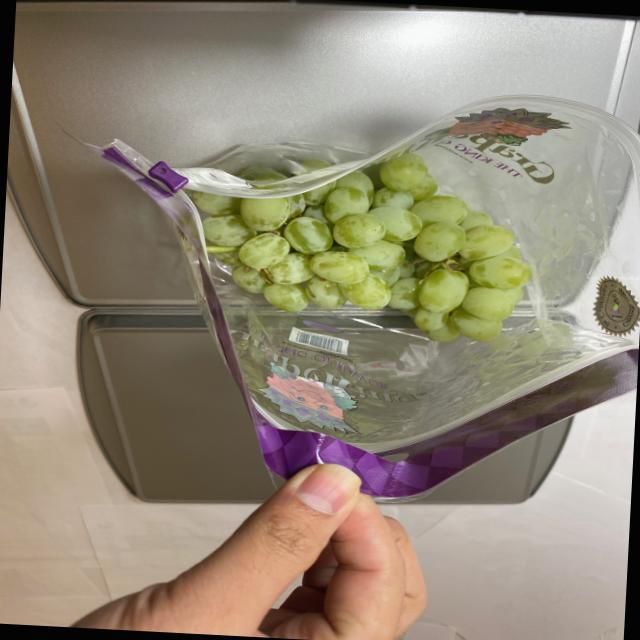grapes: (168, 143, 540, 343)
